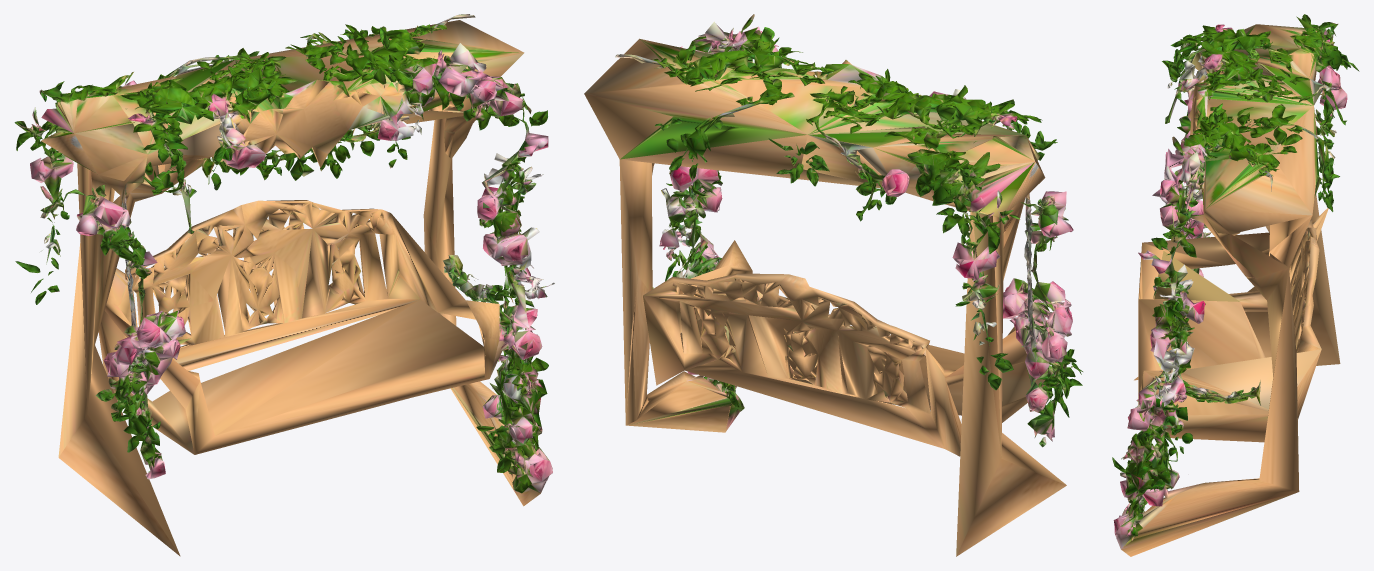
File: For_Diana_This_beauti.glb
3 views of the same model, side by side, from view 1: azimuth 30°, elevation 25°; view 2: azimuth 150°, elevation 25°; view 3: azimuth 270°, elevation 25° (orthographic). The views are drawn at different scales.
Visible parts, largest first — view 1: For_Diana_This_beauti; view 2: For_Diana_This_beauti; view 3: For_Diana_This_beauti.
Boxes of the visible parts, x1,y1,x2,y2 form: For_Diana_This_beauti: [14, 14, 554, 556]; For_Diana_This_beauti: [584, 14, 1082, 556]; For_Diana_This_beauti: [1112, 14, 1359, 556].
Bounding box in the file's own units: 1.9 × 1.88 × 1.02.
1 material, 1 textured.
